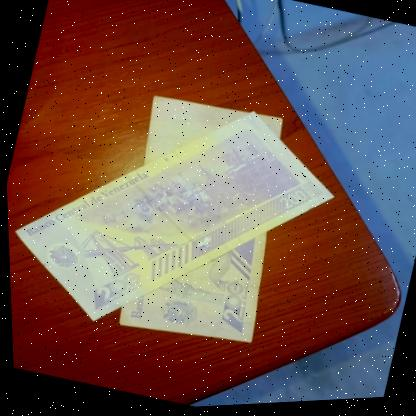ten-back-vef: (92, 85, 307, 360)
two_hundred-back-vef: (2, 55, 354, 378)
